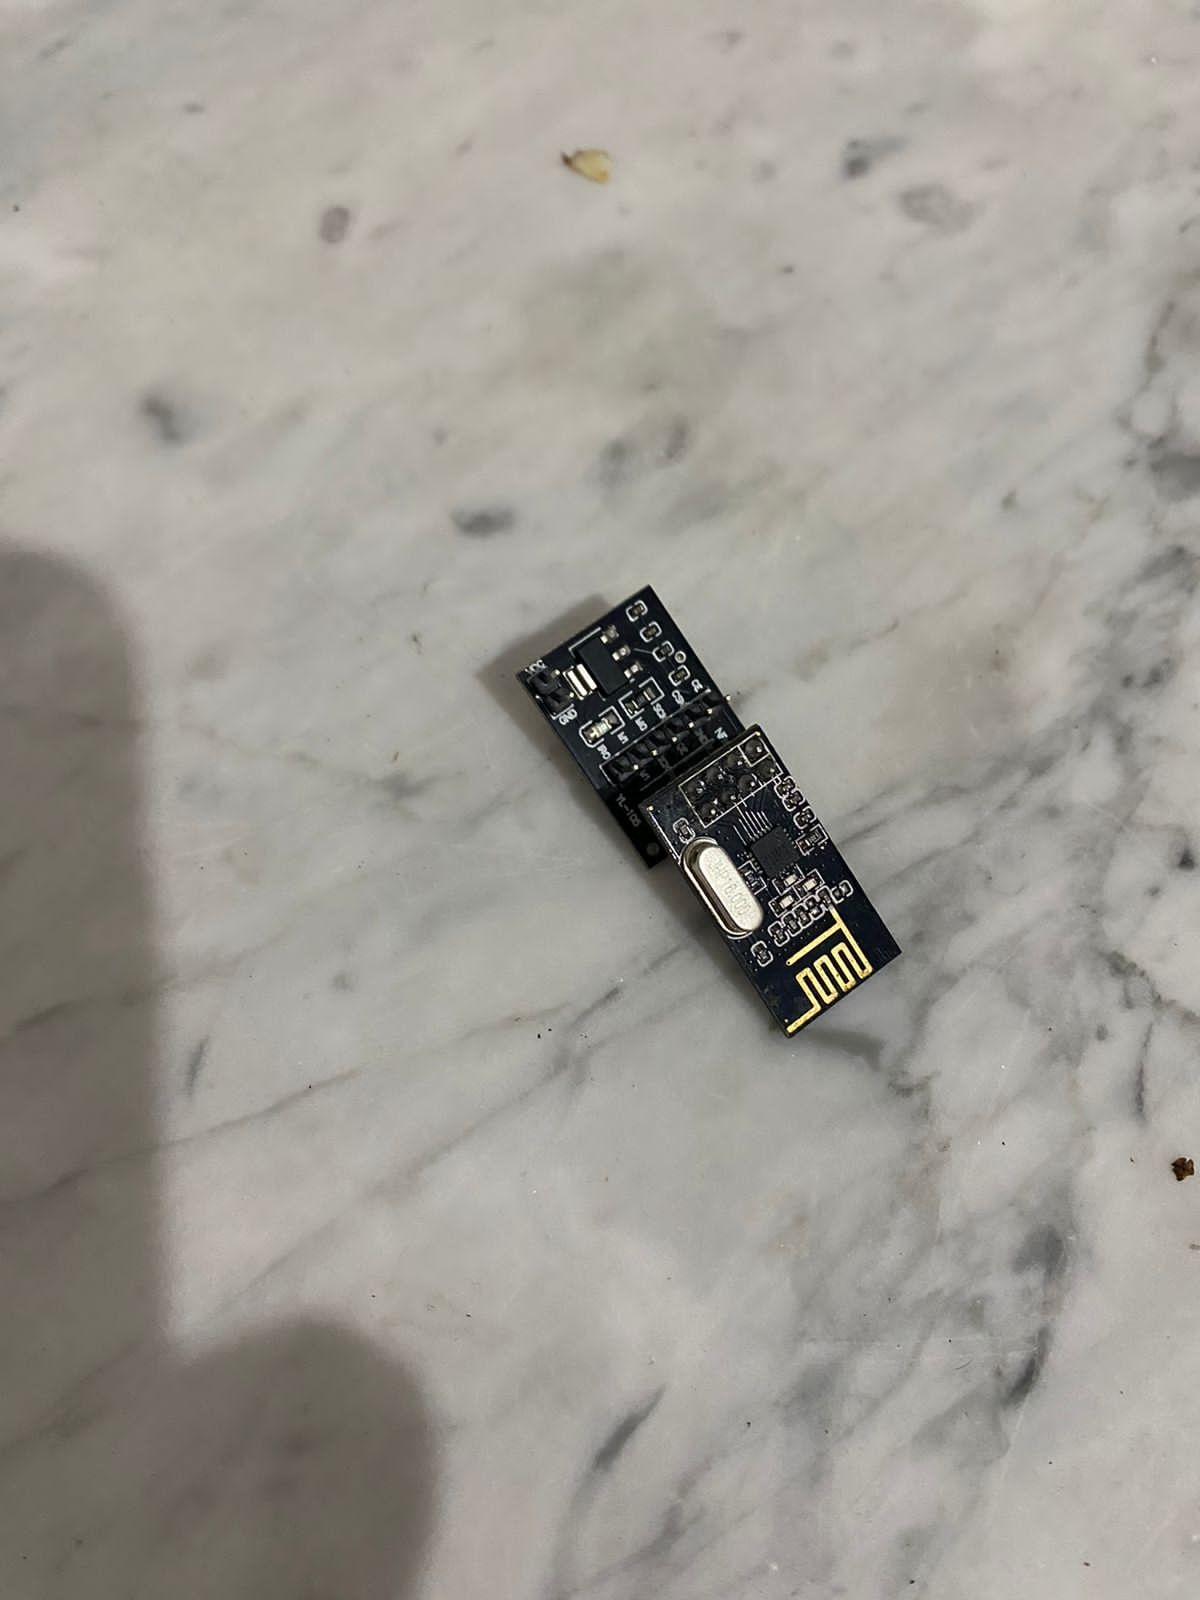RF-module: (504, 572, 916, 1051)
